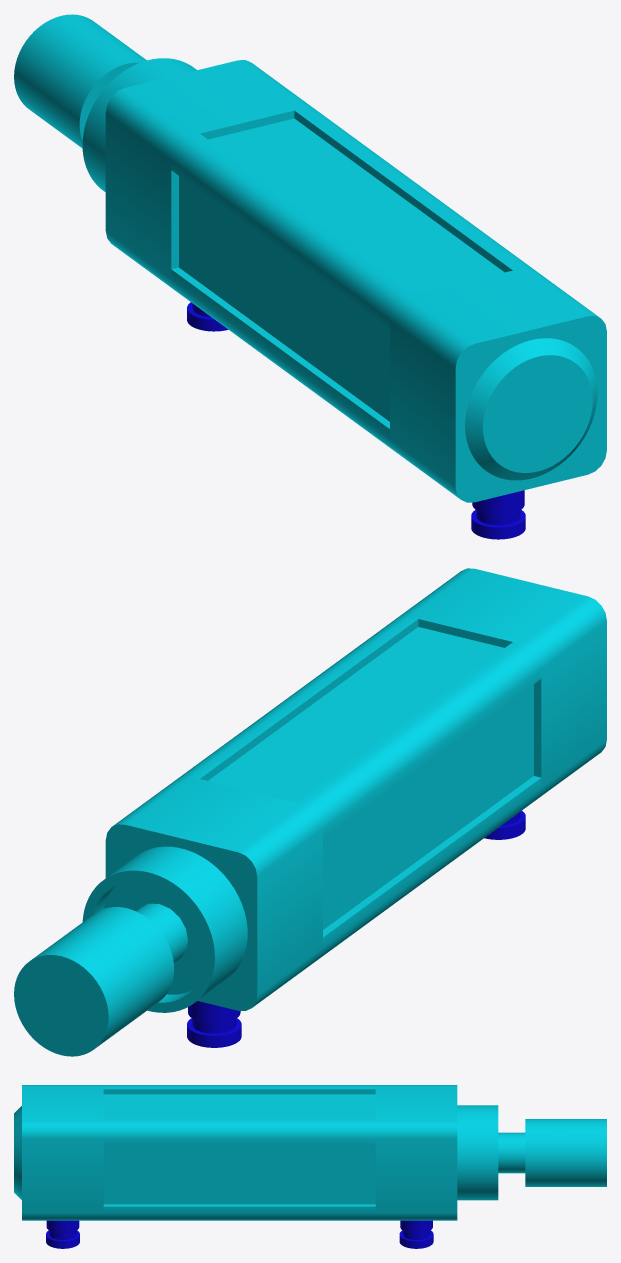
The model's file is Piston_Small.fbx.
3 renders of one model, top to bottom at view 1: azimuth 30°, elevation 25°; view 2: azimuth 150°, elevation 25°; view 3: azimuth 270°, elevation 25°, orthographic. The views are drawn at different scales.
Parts seen in each view (by area): view 1: Body, Cylinder, RacorA; view 2: Body, Cylinder, RacorB, RacorA; view 3: Body, Cylinder, RacorB, RacorA.
Part boxes in pixels (box(x1,y1,x2,y2)): Body: box(82, 58, 606, 502); Cylinder: box(14, 14, 146, 148); RacorA: box(471, 490, 525, 539); Body: box(82, 568, 606, 1012); Cylinder: box(14, 903, 187, 1056); RacorB: box(187, 1001, 241, 1047); RacorA: box(484, 811, 525, 839); Body: box(14, 1085, 498, 1220); Cylinder: box(498, 1119, 606, 1186); RacorB: box(399, 1220, 433, 1248); RacorA: box(46, 1220, 79, 1248).
Bounding box in the file's own units: 0.4 × 0.56 × 2.18.
